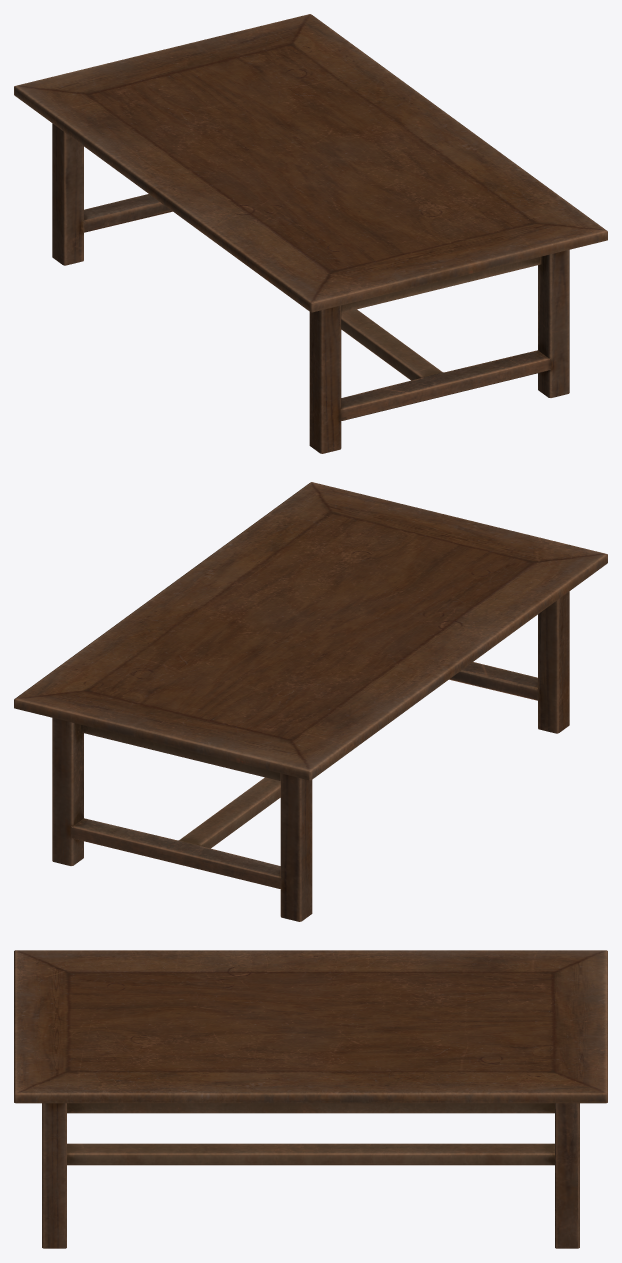
The model's file is wooden_table.glb.
3 views of the same model, one above another, from view 1: azimuth 30°, elevation 25°; view 2: azimuth 150°, elevation 25°; view 3: azimuth 270°, elevation 25° (orthographic).
Visible parts, largest first — view 1: largetable_lowpoly; view 2: largetable_lowpoly; view 3: largetable_lowpoly.
Part boxes in pixels (left/top/right/bottom): largetable_lowpoly: left=14, top=14, right=607, bottom=453; largetable_lowpoly: left=14, top=482, right=607, bottom=921; largetable_lowpoly: left=14, top=950, right=607, bottom=1248.
Bounding box in the file's own units: 0.0717 × 0.0385 × 0.1245.
1 material, 1 textured.
